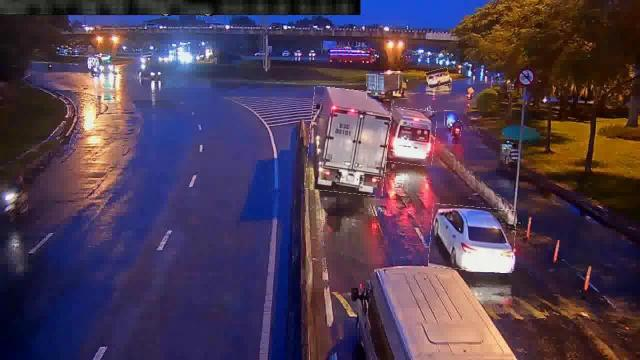Bike: (444, 110, 458, 126), (452, 121, 462, 138)
Bus: (388, 108, 436, 164)
Car: (428, 204, 516, 272), (426, 68, 450, 88)
Truck: (306, 88, 389, 195), (367, 73, 408, 99)
